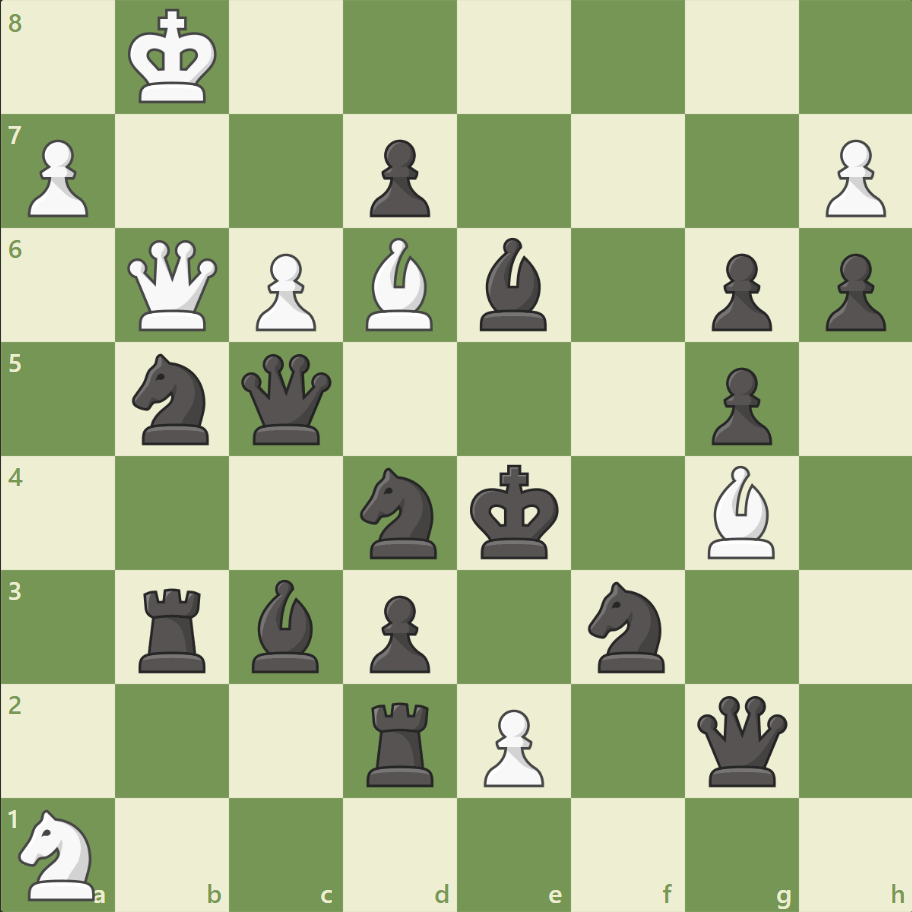B: (358, 233, 442, 336), (698, 460, 782, 563)
K: (124, 4, 224, 112)
N: (11, 802, 108, 904)
P: (20, 132, 95, 223), (247, 246, 322, 337), (474, 700, 549, 791), (815, 132, 889, 223)
Q: (124, 236, 223, 335)
b: (471, 233, 555, 336), (244, 574, 328, 676)
k: (465, 458, 565, 566)
n: (351, 461, 449, 564), (124, 348, 222, 450), (579, 575, 676, 677)
p: (701, 246, 776, 337), (701, 359, 776, 450), (361, 132, 435, 223), (815, 246, 889, 337), (361, 586, 435, 677)
q: (237, 349, 336, 449), (691, 690, 790, 789)
r: (133, 579, 215, 676), (360, 693, 442, 790)
